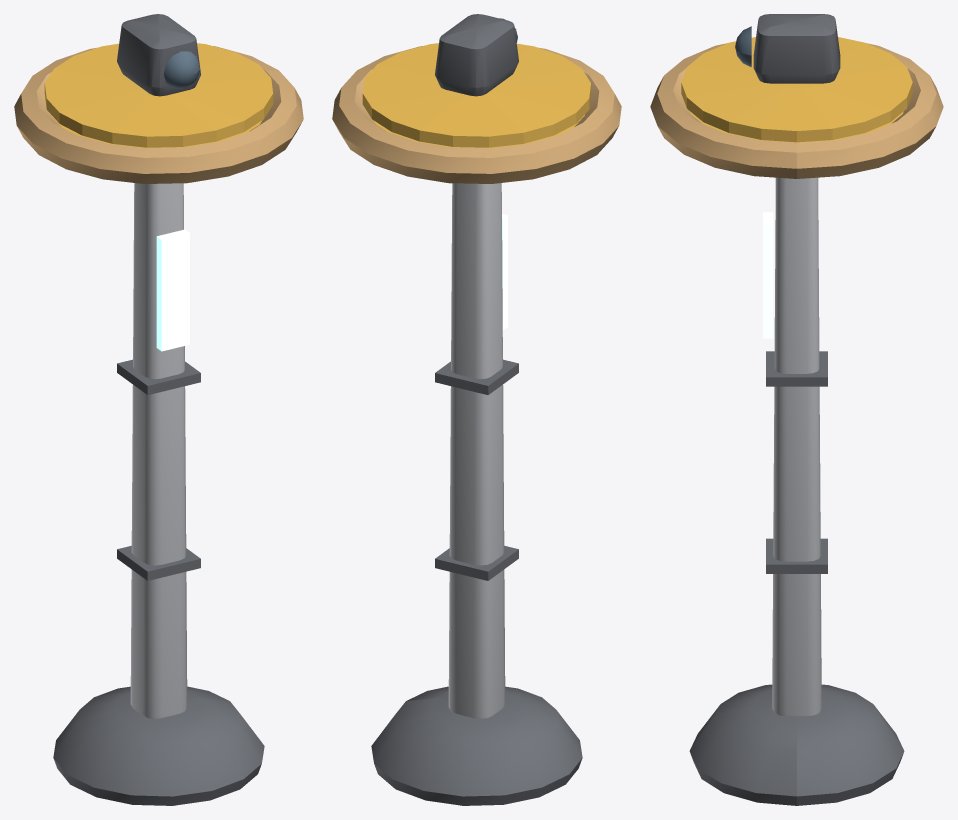
Rendered from hover-transit-and-antigrav-fleet-hover-lane-beacon-amb-9a5421a0__17111.glb.
3 renders of one model, left to right at view 1: azimuth 30°, elevation 25°; view 2: azimuth 150°, elevation 25°; view 3: azimuth 270°, elevation 25°, orthographic.
Parts seen in each view (by area): view 1: hover-lane-beacon-amber; view 2: hover-lane-beacon-amber; view 3: hover-lane-beacon-amber.
Part boxes in pixels (x1,y1,x2,y2): hover-lane-beacon-amber: (14, 14, 303, 805); hover-lane-beacon-amber: (332, 14, 621, 805); hover-lane-beacon-amber: (650, 14, 943, 805).
Bounding box in the file's own units: 1.42 × 3.96 × 1.42.
